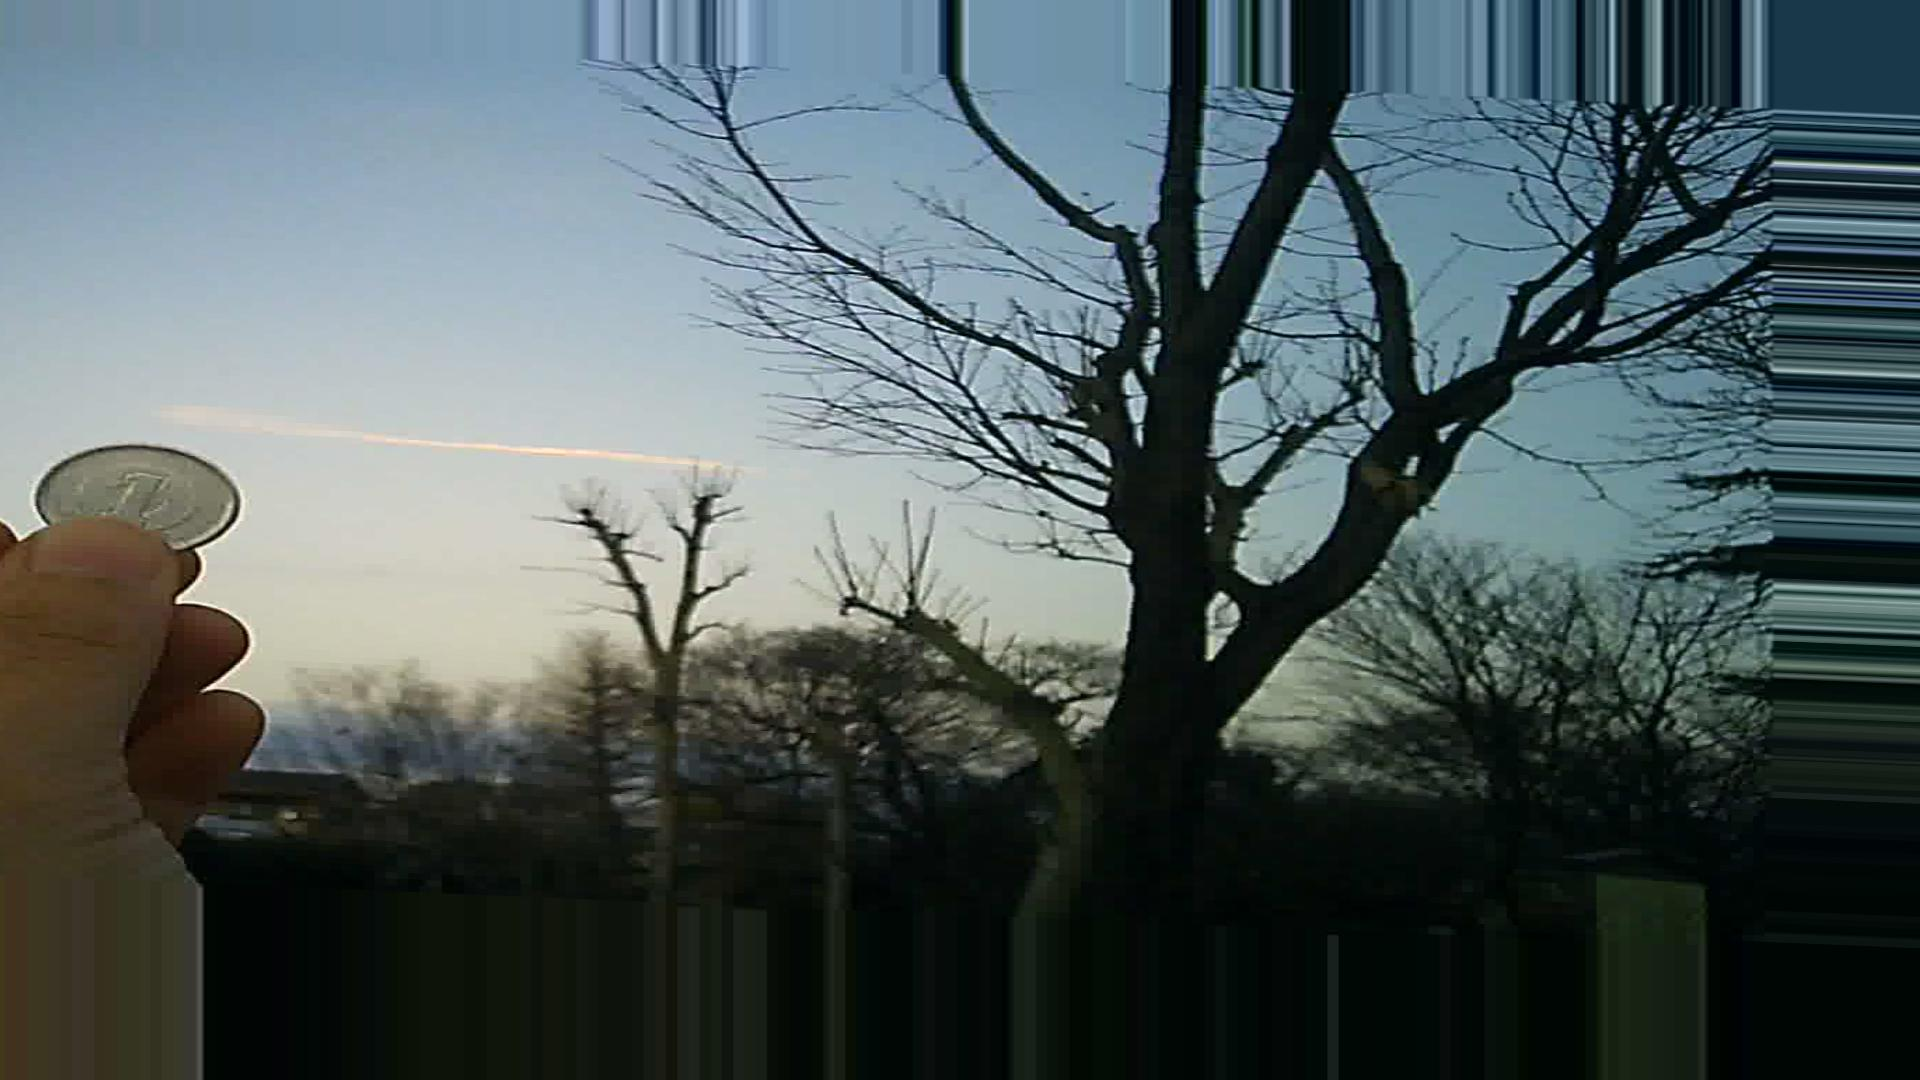1 Yen: (32, 438, 239, 571)
